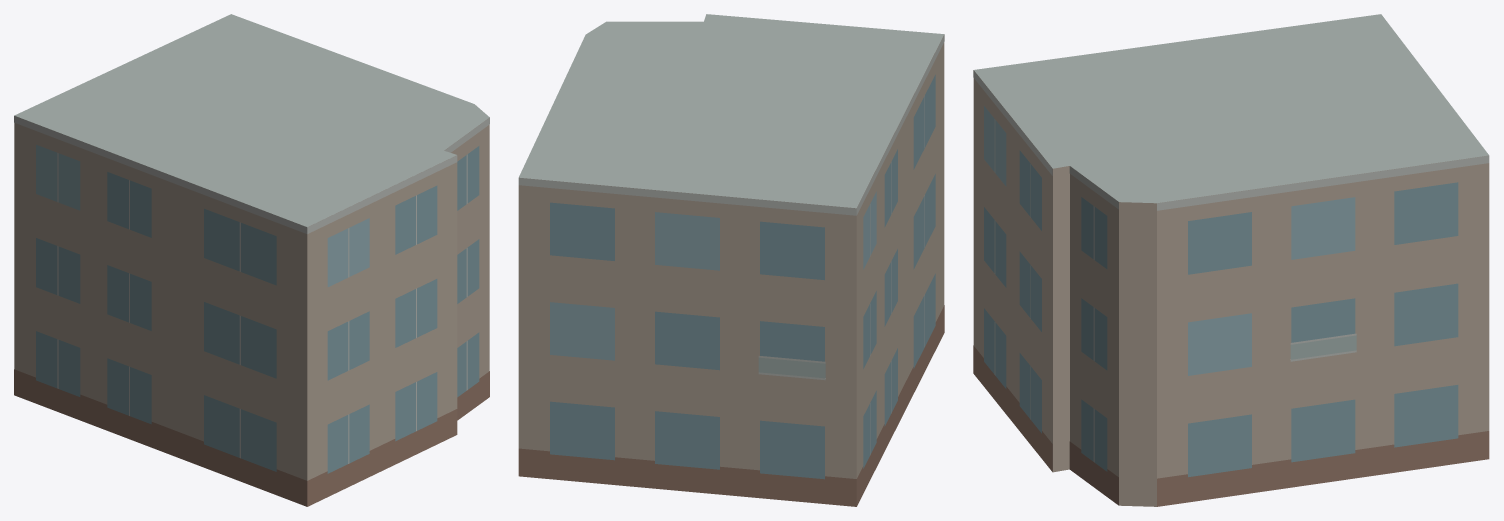
Rendered from survey-upis-32661396.glb.
3 views of the same model, side by side, from view 1: azimuth 30°, elevation 25°; view 2: azimuth 150°, elevation 25°; view 3: azimuth 270°, elevation 25° (orthographic). The views are drawn at different scales.
Visible parts, largest first — view 1: survey-upis-32661396.tmp; view 2: survey-upis-32661396.tmp; view 3: survey-upis-32661396.tmp.
Boxes of the visible parts, x1,y1,x2,y2 form: survey-upis-32661396.tmp: (14,14,489,506); survey-upis-32661396.tmp: (518,14,944,506); survey-upis-32661396.tmp: (973,14,1489,506).
Size of the model in its own units: 12.97 by 9.7 by 14.94.
